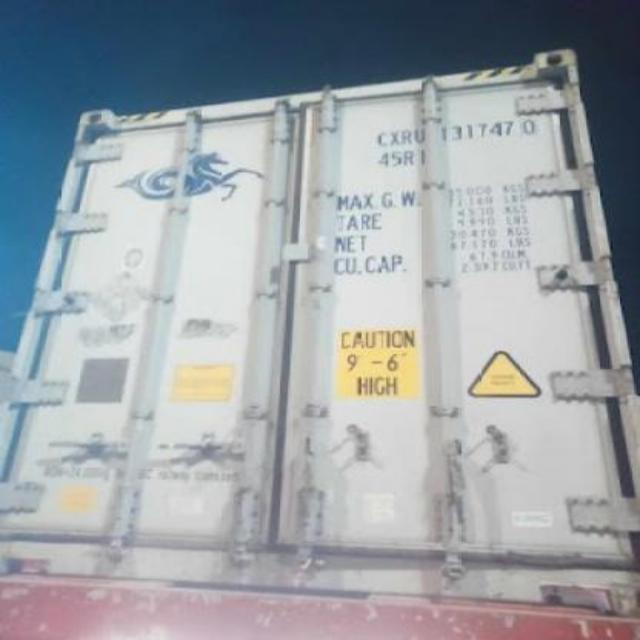0: (518, 112, 536, 136)
1: (460, 118, 476, 144), (438, 118, 450, 144)
3: (448, 121, 462, 142)
4: (486, 112, 499, 144)
7: (500, 115, 516, 142), (474, 114, 486, 144)
C: (374, 128, 388, 148)
R: (400, 125, 412, 146)
U: (412, 122, 426, 146)
X: (386, 125, 402, 145)
